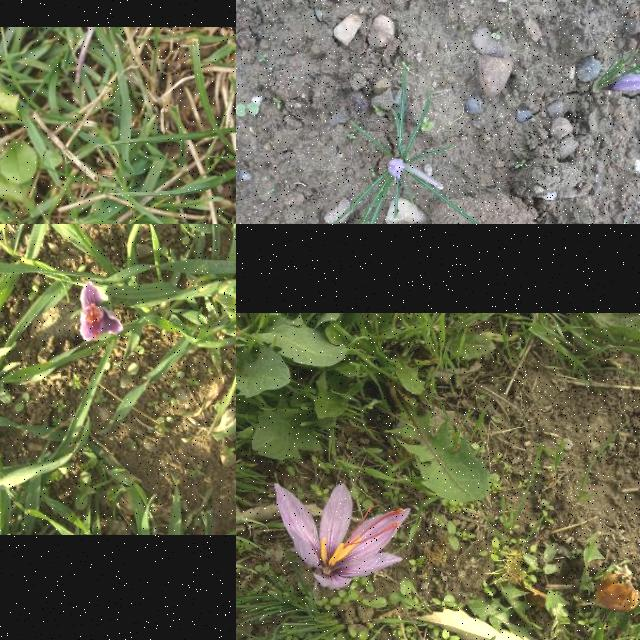flower: (276, 484, 412, 590), (80, 284, 124, 340), (607, 72, 640, 91), (387, 159, 405, 179)
